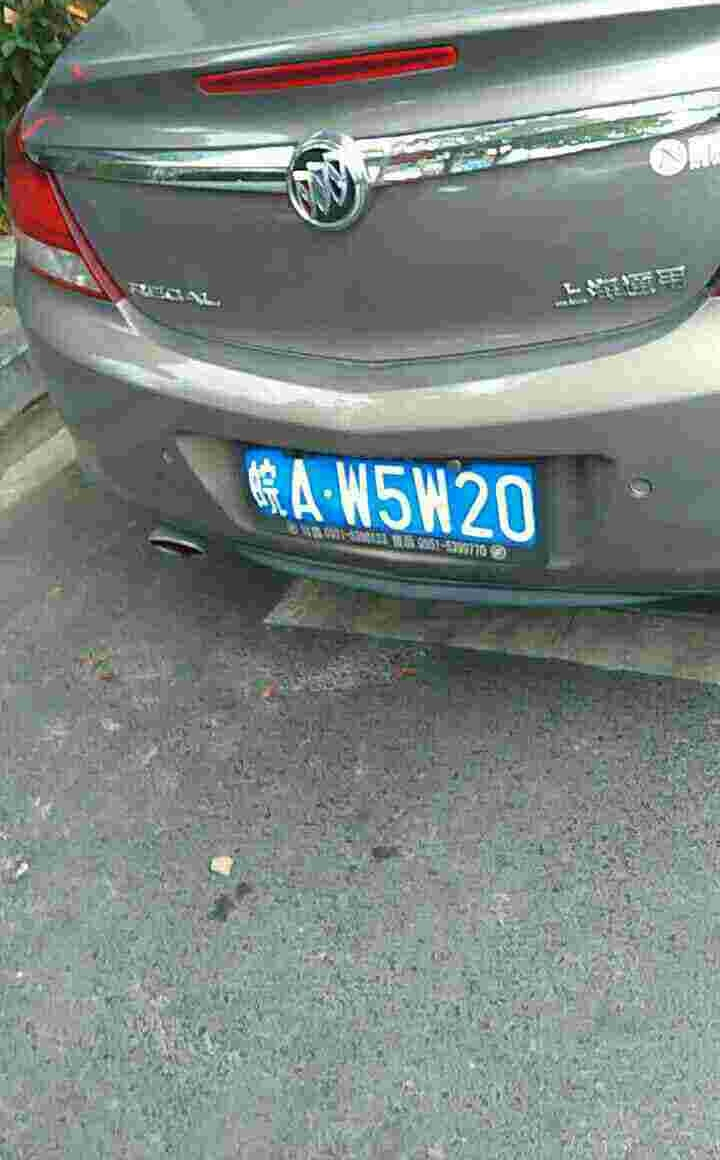car: (228, 442, 551, 557)
